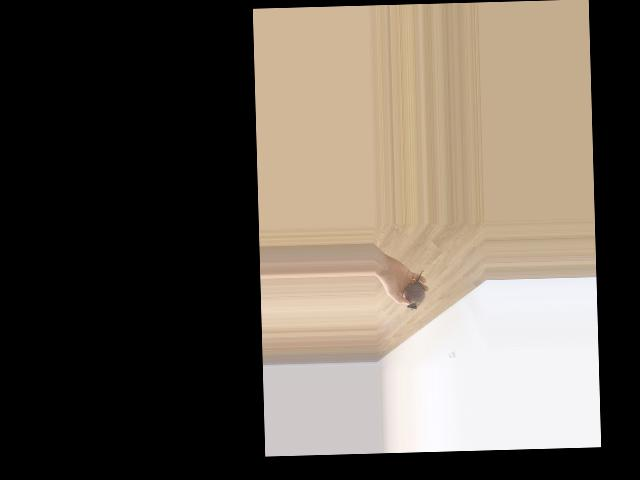beet: (402, 270, 426, 309)
